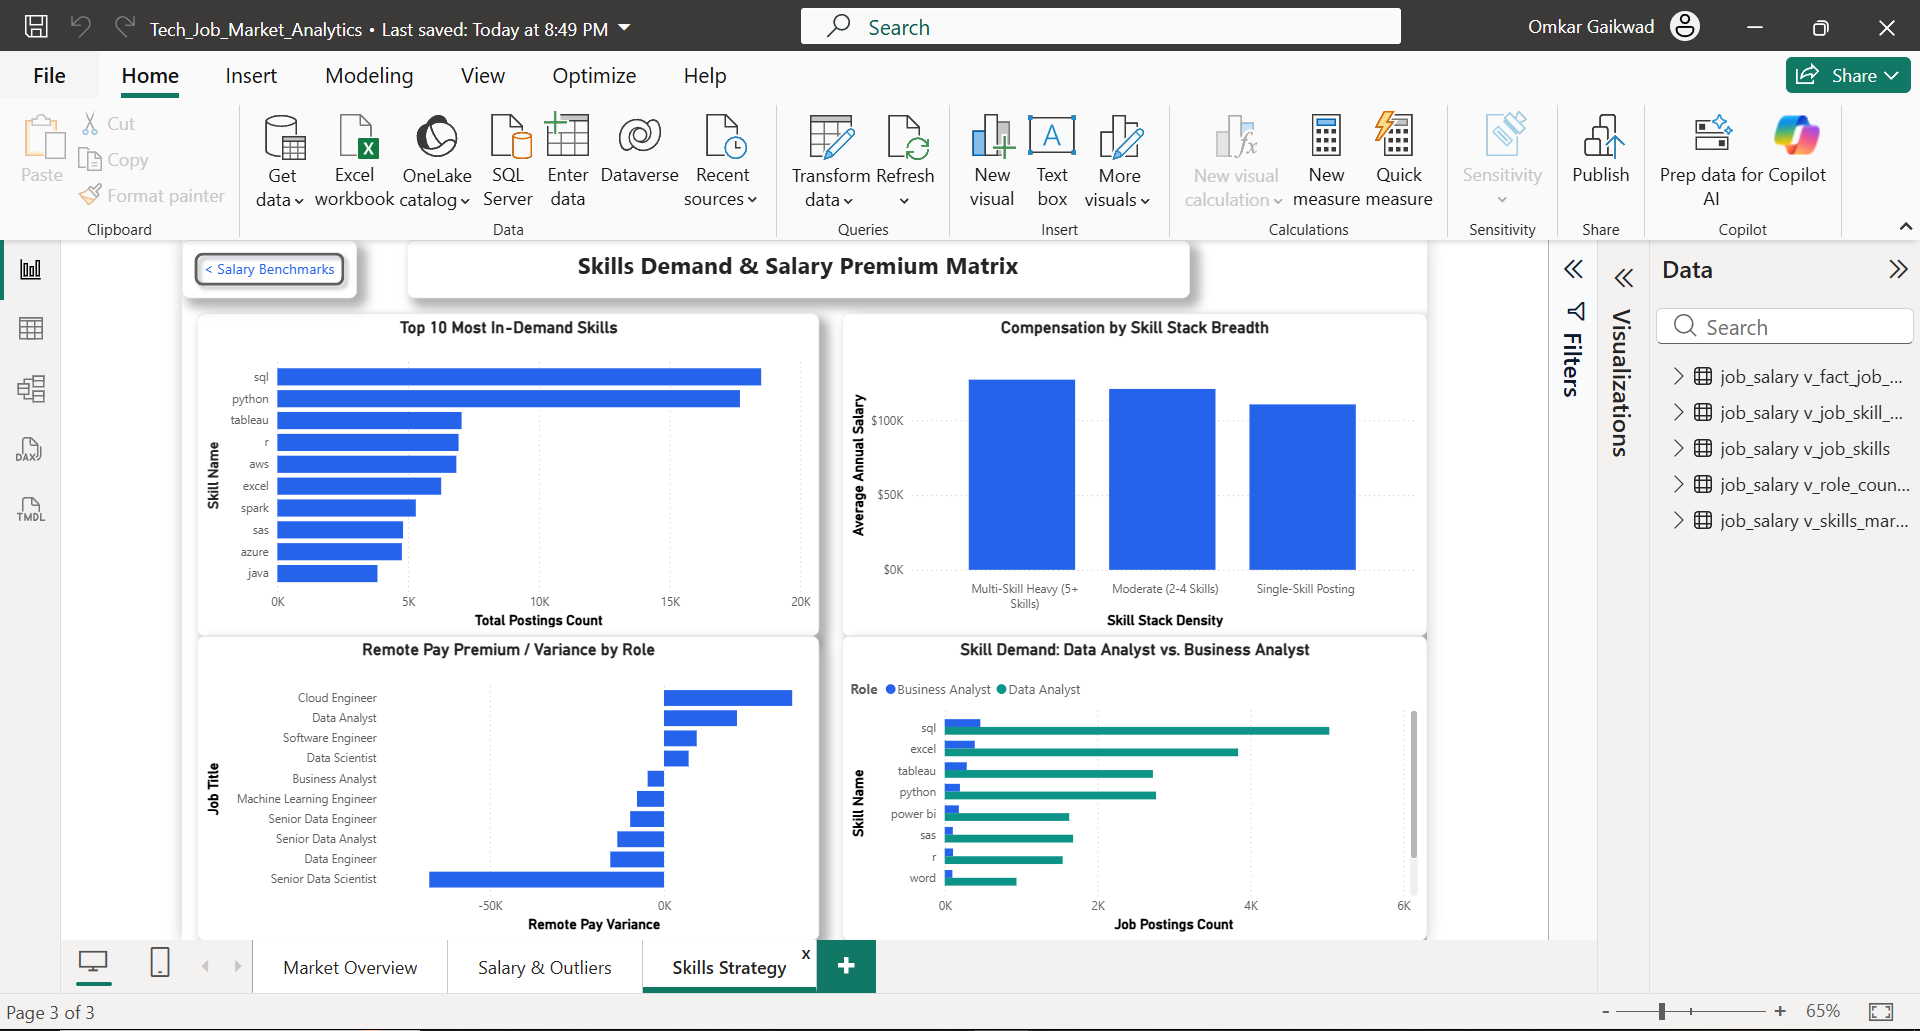

What the dashboard file says about the page in this screenshot:
{"tool":"powerbi","page":{"name":"Skills Strategy","canvas":[1280,720],"ordinal":2},"visuals":[{"type":"textbox","box":[231.7,0,805,60],"z":0},{"type":"clusteredBarChart","title":"Top 10 Most In-Demand Skills","fields":{"Category":["job_salary v_job_skills.skill_name"],"Y":["CountNonNull(job_salary v_job_skills.job_id)"]},"box":[15,75,640,331.7],"z":1000},{"type":"clusteredColumnChart","title":"Compensation by Skill Stack Breadth","fields":{"Category":["job_salary v_job_skill_density.skill_density_tier"],"Y":["Avg(job_salary v_fact_job_postings.salary_year)"]},"box":[678.3,75,601.7,331.7],"z":2000},{"type":"clusteredBarChart","title":"Remote Pay Premium / Variance by Role","fields":{"Category":["job_salary v_role_country_salaries.job_title_short"],"Y":["Avg(job_salary v_role_country_salaries.remote_pay_variance)"]},"box":[15,406.7,640,313.3],"z":2001},{"type":"clusteredBarChart","title":"Skill Demand: Data Analyst vs. Business Analyst","fields":{"Category":["job_salary v_job_skills.skill_name"],"Series":["job_salary v_fact_job_postings.job_title_short"],"Y":["CountNonNull(job_salary v_job_skills.job_id)"]},"box":[678.3,406.7,601.7,313.3],"z":2002},{"type":"actionButton","box":[0,0,180,60],"z":2004}]}

Visuals, with their boxes on the page's 1280x720 design canvas (x1, y1, x2, y2). These are canvas units, not pixel positions in the 1920x1031 screenshot, which may show the page scaled, cropped or inside an application window:
textbox: bbox=[232, 0, 1037, 60]
"Top 10 Most In-Demand Skills" clusteredBarChart: bbox=[15, 75, 655, 407]
"Compensation by Skill Stack Breadth" clusteredColumnChart: bbox=[678, 75, 1280, 407]
"Remote Pay Premium / Variance by Role" clusteredBarChart: bbox=[15, 407, 655, 720]
"Skill Demand: Data Analyst vs. Business Analyst" clusteredBarChart: bbox=[678, 407, 1280, 720]
actionButton: bbox=[0, 0, 180, 60]
